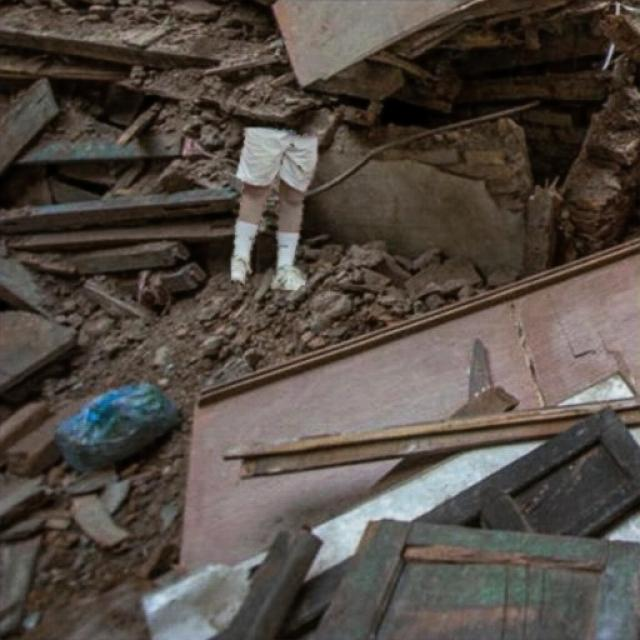Person in Rubble: (232, 128, 316, 288)
